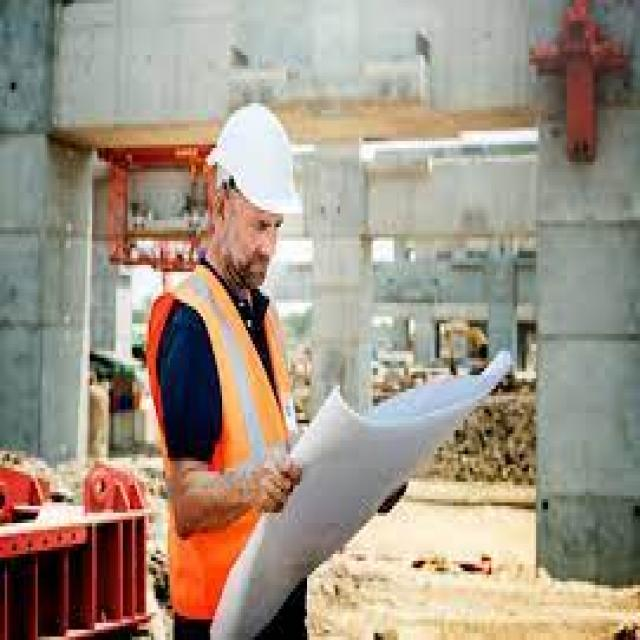Reflective-Jacket: (135, 265, 302, 630)
Safety-Helmet: (194, 90, 314, 230)
